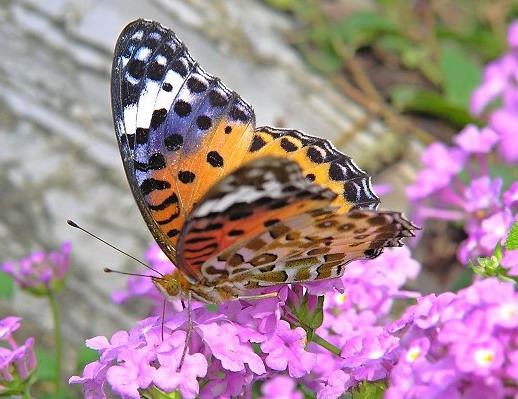Argyreus hyperbius: (63, 15, 422, 373)
butterfly: (65, 17, 424, 375)
